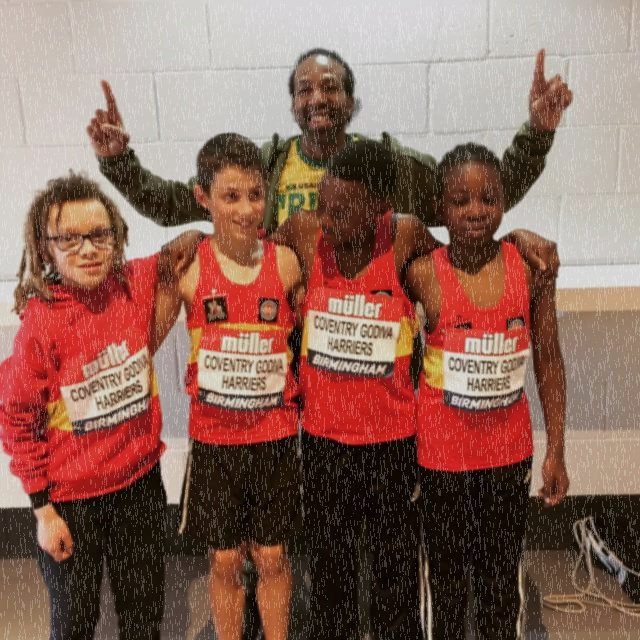pessoa: (84, 46, 576, 640), (154, 128, 570, 640), (398, 140, 572, 640), (0, 168, 172, 640), (148, 131, 304, 639)
